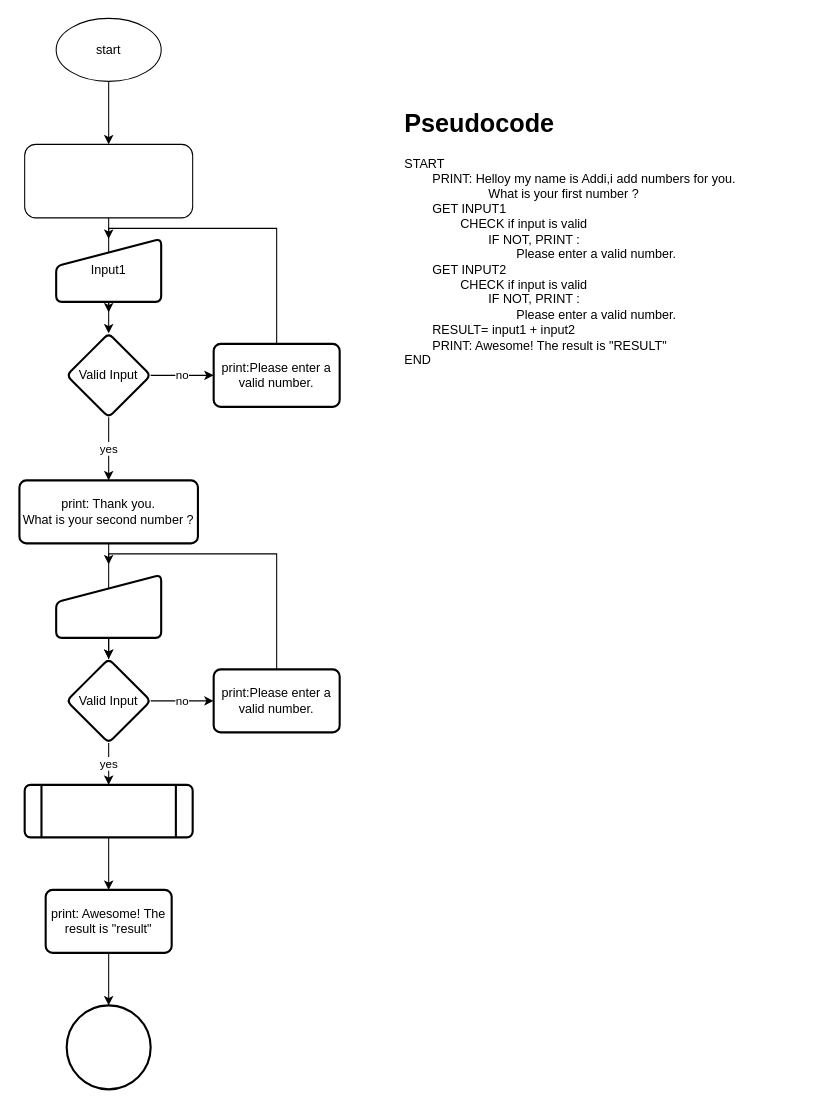
Some shapes in this 840 by 1109 pixel diagram are drawn without their labels. The shapes that lost their labels are listed below. From the top down, each one's box as (x1, y1, x2, y2) in pixels, then its label:
(24, 143, 193, 218): print: Hello,my name is Addi, i add numbers for you. What is your first number ?
(55, 573, 162, 638): Input2
(23, 783, 193, 838): result= Input1 +Input2
(65, 1004, 151, 1090): End
